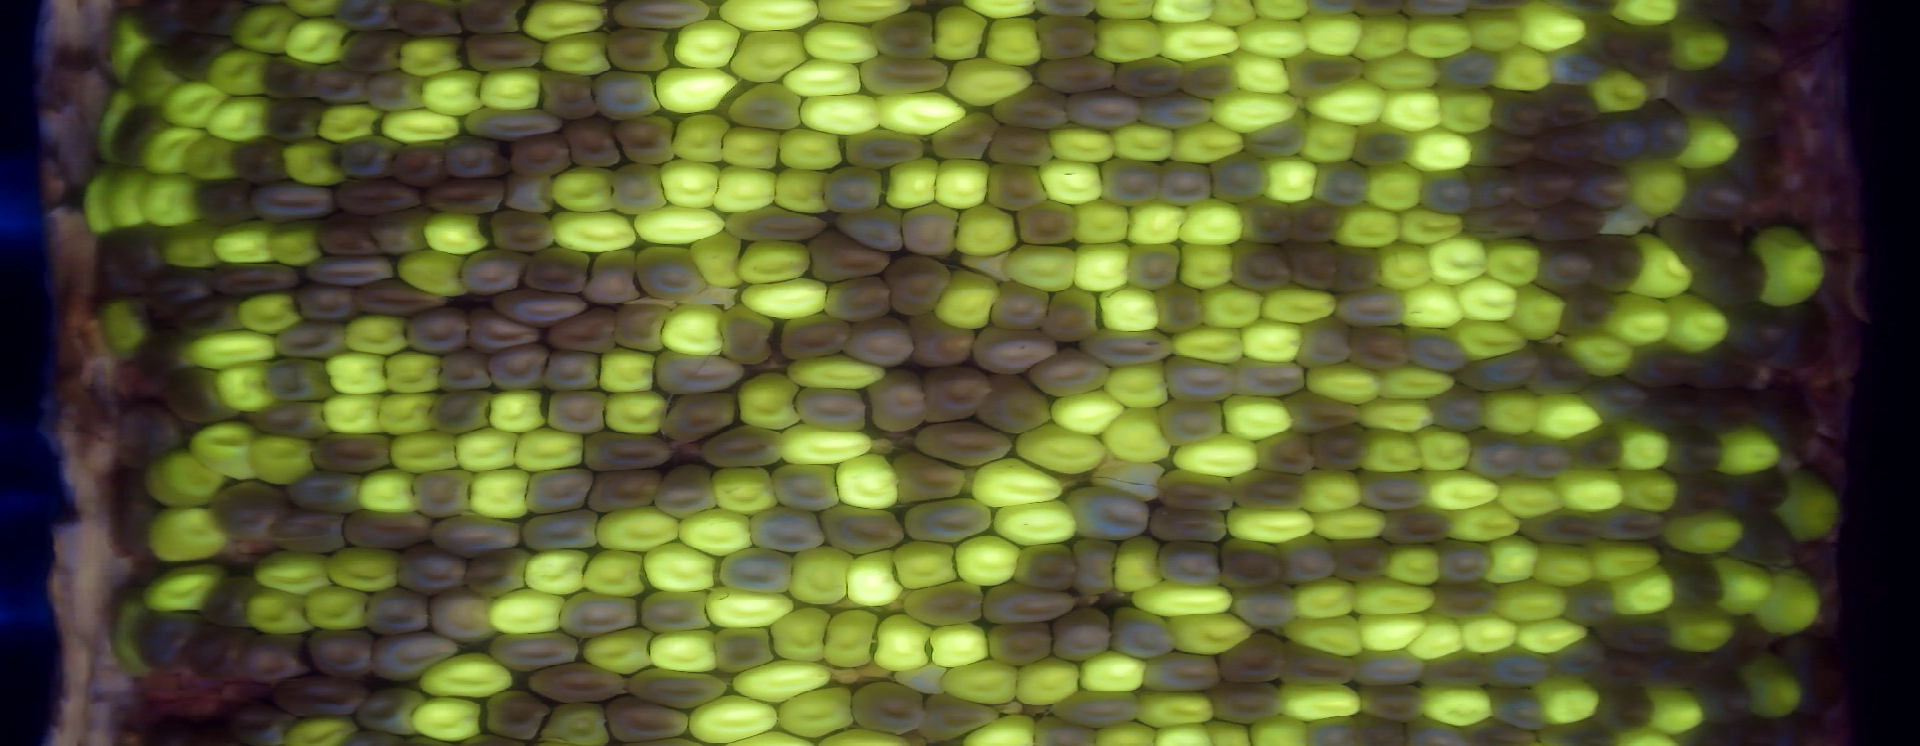fluorescent: (1751, 219, 1829, 312), (137, 445, 238, 514), (966, 453, 1069, 514), (1011, 418, 1112, 479), (144, 499, 233, 567), (1618, 229, 1700, 303), (1773, 467, 1849, 545), (1299, 72, 1400, 131), (681, 688, 782, 746), (771, 682, 863, 745), (871, 82, 973, 137), (181, 415, 260, 488), (1753, 563, 1826, 642), (727, 657, 840, 707), (415, 649, 520, 702), (1164, 608, 1260, 665), (774, 420, 879, 472), (591, 499, 687, 555), (1097, 403, 1178, 469), (1738, 649, 1809, 724), (1209, 85, 1307, 138), (140, 560, 229, 619), (653, 61, 746, 118), (627, 198, 733, 247), (1704, 419, 1788, 481), (1171, 428, 1265, 483), (1616, 154, 1690, 224), (1044, 385, 1131, 443), (103, 588, 153, 690), (700, 579, 797, 632), (727, 24, 807, 88), (945, 55, 1035, 111), (1442, 314, 1536, 367), (656, 298, 733, 363), (673, 503, 760, 561), (738, 272, 838, 322), (1275, 609, 1371, 660), (389, 244, 474, 303), (785, 348, 891, 394), (1662, 288, 1734, 356), (991, 495, 1082, 549), (576, 543, 656, 604), (578, 619, 659, 680), (730, 232, 816, 289), (636, 539, 721, 597), (131, 167, 207, 232), (950, 528, 1027, 592), (1340, 570, 1442, 617), (932, 265, 1000, 336), (864, 609, 937, 676), (1129, 578, 1239, 622), (784, 541, 857, 608), (1660, 12, 1734, 78), (549, 205, 643, 256), (834, 450, 909, 514), (242, 429, 320, 491), (1153, 16, 1247, 67), (733, 367, 804, 435), (836, 545, 907, 612), (1501, 281, 1573, 347), (1527, 670, 1607, 730), (1223, 501, 1322, 549), (1266, 677, 1365, 725), (667, 16, 744, 77), (793, 87, 885, 138), (400, 691, 492, 742), (1302, 356, 1387, 412), (178, 326, 282, 371), (250, 546, 339, 599), (318, 543, 405, 597), (1663, 506, 1750, 560), (1357, 47, 1450, 97), (1032, 152, 1113, 209), (485, 582, 571, 636), (951, 197, 1022, 262), (224, 1, 302, 60), (273, 131, 347, 194), (1087, 13, 1171, 69), (1356, 156, 1429, 218), (1095, 279, 1169, 341), (711, 1, 831, 39), (1215, 391, 1299, 445), (293, 582, 377, 636), (885, 535, 962, 594), (102, 5, 157, 87), (1000, 243, 1082, 298), (1660, 601, 1742, 657), (1708, 556, 1780, 619), (209, 356, 288, 414), (1010, 650, 1085, 710), (1101, 356, 1177, 415), (242, 581, 318, 639), (928, 1, 993, 70), (1108, 530, 1173, 599), (940, 655, 1025, 708), (1369, 356, 1464, 403), (1413, 680, 1504, 729), (1671, 111, 1742, 174), (309, 99, 391, 153), (1329, 197, 1407, 254), (1349, 423, 1428, 479), (1513, 1, 1588, 60), (516, 1, 612, 47), (201, 89, 277, 147), (665, 108, 733, 171), (140, 120, 209, 183), (1531, 390, 1611, 443), (122, 44, 182, 116), (1424, 232, 1496, 292), (384, 426, 467, 479), (506, 425, 591, 475), (418, 65, 492, 122), (1291, 110, 1365, 168), (644, 626, 727, 677), (1477, 232, 1547, 293), (1419, 464, 1509, 512), (1287, 463, 1368, 516), (800, 18, 884, 69), (1490, 472, 1572, 523), (1127, 686, 1220, 731), (86, 296, 151, 361), (769, 604, 835, 668), (278, 12, 353, 69), (1607, 562, 1681, 619), (391, 32, 470, 85), (1400, 11, 1479, 64), (201, 45, 278, 99), (534, 28, 615, 80), (1193, 279, 1273, 331), (517, 546, 598, 598), (1287, 572, 1364, 626), (1397, 125, 1478, 176), (1600, 292, 1678, 345), (1224, 42, 1298, 98), (533, 697, 617, 746), (687, 228, 749, 294), (416, 206, 495, 258), (817, 608, 878, 675), (1491, 573, 1573, 624), (1120, 195, 1195, 250), (1450, 273, 1524, 328), (464, 464, 533, 524), (1172, 236, 1242, 295), (1476, 530, 1545, 589), (1393, 281, 1469, 334), (709, 158, 780, 216), (1174, 195, 1251, 247), (1559, 330, 1640, 380), (546, 160, 620, 216), (1637, 682, 1711, 737), (1509, 612, 1596, 659), (1349, 608, 1431, 657), (156, 217, 227, 273), (1456, 6, 1532, 59), (931, 152, 996, 213), (1067, 195, 1140, 249), (1375, 83, 1449, 137), (1442, 499, 1529, 544), (1169, 118, 1248, 168), (157, 78, 231, 131), (204, 216, 279, 268), (1584, 539, 1669, 586), (1167, 321, 1249, 369), (1483, 40, 1554, 96), (473, 64, 549, 115), (707, 463, 782, 514), (1400, 610, 1476, 661), (1551, 465, 1631, 514), (983, 13, 1048, 73), (378, 107, 467, 151), (91, 85, 137, 168), (771, 124, 849, 174), (1043, 119, 1120, 169), (321, 347, 394, 399), (449, 424, 523, 477), (261, 216, 329, 272), (594, 344, 662, 401), (1609, 418, 1678, 474), (1231, 15, 1311, 62), (354, 465, 424, 521), (1106, 119, 1184, 168), (1256, 282, 1341, 327), (1236, 314, 1307, 367), (1071, 235, 1134, 296), (1349, 394, 1441, 436), (1607, 465, 1682, 516), (231, 287, 309, 336), (1474, 383, 1543, 439), (776, 55, 867, 97), (1297, 9, 1367, 62), (770, 162, 834, 220), (1434, 80, 1499, 137), (1351, 9, 1417, 65), (1373, 236, 1440, 292), (336, 314, 415, 360), (600, 386, 670, 439), (1378, 538, 1447, 590), (1075, 646, 1150, 695), (658, 154, 722, 211), (1451, 610, 1529, 657), (484, 385, 551, 439), (181, 127, 240, 189), (1528, 541, 1602, 590), (373, 387, 443, 439), (1411, 423, 1480, 474), (1258, 152, 1322, 207), (885, 152, 940, 217), (1391, 203, 1466, 251), (99, 160, 148, 233), (317, 390, 389, 437), (1581, 67, 1653, 115), (956, 708, 1047, 746), (1309, 503, 1396, 543), (718, 122, 782, 174), (931, 619, 996, 670), (381, 347, 444, 397), (1600, 1, 1687, 34), (277, 712, 360, 746), (811, 1, 915, 28), (80, 169, 118, 241), (1243, 710, 1318, 746), (958, 1, 1046, 26), (1204, 1, 1262, 33), (1151, 718, 1217, 746), (1091, 1, 1162, 24)
nonfluorescent: (970, 369, 1059, 440), (109, 398, 189, 478), (803, 225, 899, 292), (966, 321, 1068, 382), (204, 475, 294, 544), (913, 363, 1003, 430), (1062, 480, 1160, 541), (130, 605, 212, 677), (365, 624, 462, 685), (631, 240, 718, 307), (1653, 538, 1731, 612), (878, 247, 958, 321), (816, 500, 913, 559), (899, 491, 1000, 548), (348, 271, 456, 323), (910, 416, 1018, 469), (1660, 212, 1751, 274), (180, 619, 260, 690), (845, 675, 934, 737), (485, 281, 599, 330), (648, 344, 748, 399), (1020, 344, 1116, 402), (1709, 20, 1789, 88), (599, 691, 697, 746), (651, 390, 743, 448), (1764, 298, 1837, 372), (482, 622, 584, 675), (976, 579, 1082, 630), (326, 173, 433, 222), (622, 664, 732, 712), (1453, 342, 1549, 397), (1281, 47, 1370, 105), (1689, 251, 1774, 312), (901, 309, 982, 374), (269, 668, 373, 718), (790, 381, 880, 439), (1723, 73, 1798, 143), (923, 107, 1007, 169), (895, 577, 989, 632), (1158, 349, 1247, 408), (100, 472, 157, 563), (527, 655, 629, 706), (233, 628, 313, 692), (816, 272, 905, 330), (1753, 379, 1826, 450), (1276, 637, 1363, 696), (721, 76, 808, 135), (986, 78, 1076, 135), (857, 47, 956, 98), (429, 506, 525, 559), (720, 201, 831, 246), (1215, 532, 1296, 594), (1731, 507, 1802, 578), (476, 686, 560, 746), (1774, 632, 1834, 715), (770, 457, 849, 521), (692, 420, 789, 472), (888, 450, 972, 508), (576, 428, 676, 477), (1676, 160, 1753, 224), (917, 688, 1002, 746), (576, 245, 649, 311), (1078, 323, 1177, 372), (1152, 462, 1240, 517), (746, 501, 834, 556), (246, 174, 340, 225), (204, 255, 309, 301), (520, 240, 598, 303), (1103, 603, 1180, 665), (462, 100, 571, 145), (340, 505, 441, 552), (1151, 393, 1234, 451), (553, 589, 647, 641), (1521, 339, 1600, 399), (391, 539, 475, 595), (157, 29, 239, 87), (864, 7, 943, 67), (1049, 601, 1118, 670), (81, 232, 151, 299), (345, 681, 429, 737), (634, 584, 718, 641), (103, 100, 168, 173), (460, 301, 545, 356), (162, 366, 238, 428), (1217, 630, 1294, 690), (1234, 108, 1316, 164), (140, 266, 222, 322), (601, 157, 673, 220), (649, 461, 721, 524), (456, 245, 539, 300), (771, 310, 855, 365), (716, 543, 800, 598), (267, 503, 350, 559), (589, 67, 669, 125), (429, 586, 503, 647), (301, 624, 377, 684), (538, 303, 618, 359), (1662, 66, 1742, 122), (306, 426, 397, 477), (607, 292, 675, 359), (187, 173, 264, 232), (835, 201, 912, 260), (580, 465, 669, 517), (520, 463, 598, 522), (1724, 137, 1793, 203), (1581, 232, 1651, 296), (984, 276, 1056, 339), (1460, 423, 1531, 486), (895, 200, 967, 262), (482, 336, 556, 397), (841, 315, 921, 371), (1226, 463, 1313, 514), (282, 465, 369, 517), (1224, 238, 1300, 296), (841, 125, 932, 174), (458, 27, 549, 76), (1138, 648, 1228, 697), (1051, 685, 1149, 730), (249, 394, 337, 445), (555, 113, 627, 174), (982, 156, 1056, 216), (538, 383, 613, 441), (1224, 354, 1311, 404), (519, 503, 606, 554), (122, 331, 192, 393), (1226, 581, 1307, 635), (1527, 196, 1611, 247), (224, 131, 298, 190), (332, 127, 407, 185), (715, 303, 779, 370), (1089, 457, 1172, 508), (1580, 370, 1656, 426), (1722, 463, 1798, 519), (1032, 51, 1127, 97), (609, 109, 680, 169), (1145, 500, 1232, 549), (214, 696, 299, 746), (1460, 197, 1544, 247), (503, 127, 582, 181), (980, 619, 1058, 673), (1567, 160, 1646, 214), (1276, 390, 1369, 435), (1589, 609, 1678, 657), (1431, 535, 1506, 592), (1521, 503, 1607, 552), (1633, 96, 1693, 165), (421, 383, 497, 439), (365, 200, 436, 258), (1720, 301, 1791, 360), (1346, 644, 1435, 691), (459, 543, 531, 600), (710, 624, 782, 681), (1529, 238, 1602, 295), (333, 24, 410, 78), (298, 249, 400, 289), (1760, 1, 1847, 49), (1062, 86, 1146, 135), (600, 23, 675, 78), (1095, 156, 1169, 211), (419, 173, 509, 218), (1111, 54, 1190, 105), (1464, 126, 1550, 174), (1153, 538, 1229, 592), (1682, 670, 1758, 724), (1209, 677, 1286, 730), (1627, 337, 1704, 390), (1332, 284, 1413, 334), (104, 220, 178, 276), (400, 303, 474, 358), (1131, 87, 1218, 134), (1291, 314, 1359, 372), (408, 464, 478, 522), (1510, 154, 1581, 211), (261, 352, 337, 404), (819, 163, 891, 218), (1689, 339, 1761, 394), (1660, 469, 1733, 524), (1354, 467, 1438, 514), (1149, 277, 1213, 338), (200, 572, 264, 633), (1618, 20, 1682, 81), (1276, 532, 1342, 592), (986, 118, 1060, 170), (1342, 321, 1417, 374), (1416, 647, 1498, 695), (361, 584, 432, 639), (1326, 532, 1397, 587), (602, 1, 716, 36), (1029, 12, 1104, 64), (1040, 285, 1104, 345), (1280, 194, 1352, 247), (1378, 502, 1463, 548), (1687, 383, 1761, 436), (1656, 425, 1729, 478), (1153, 157, 1223, 212), (1402, 320, 1472, 375), (440, 130, 514, 181), (535, 66, 601, 124), (257, 50, 324, 107), (1554, 284, 1621, 341), (285, 281, 362, 330), (1632, 385, 1716, 430), (1638, 644, 1722, 690), (1536, 78, 1605, 132), (538, 344, 612, 394), (1483, 686, 1558, 736), (1584, 643, 1659, 693), (1592, 109, 1652, 171), (273, 315, 351, 363), (1713, 610, 1784, 663), (1206, 149, 1273, 205), (1352, 119, 1420, 173), (311, 209, 384, 260), (384, 136, 452, 190), (1483, 85, 1550, 138), (1174, 50, 1247, 100), (1482, 643, 1558, 691), (260, 91, 323, 147), (1236, 194, 1299, 250), (1419, 579, 1502, 622), (1547, 633, 1618, 684), (1014, 195, 1081, 247), (1327, 241, 1395, 294), (359, 69, 431, 118), (1537, 122, 1609, 171), (1576, 10, 1638, 66), (1305, 421, 1375, 472), (309, 58, 373, 111), (1434, 45, 1505, 94), (431, 344, 500, 394), (1594, 502, 1670, 548), (1427, 383, 1491, 436), (451, 1, 535, 42), (387, 1, 467, 44), (1356, 681, 1433, 725), (1309, 160, 1376, 211), (487, 207, 560, 254), (167, 292, 245, 334), (1249, 430, 1318, 479), (1288, 239, 1344, 296), (1540, 40, 1607, 89), (1516, 430, 1580, 480), (127, 1, 192, 50), (1123, 239, 1183, 292), (1558, 578, 1622, 626), (324, 1, 404, 39), (498, 170, 560, 219), (1533, 713, 1624, 746), (179, 1, 252, 42), (1418, 169, 1477, 219), (1675, 1, 1778, 29), (1460, 164, 1523, 209), (1026, 710, 1104, 746), (1397, 710, 1476, 746), (1569, 425, 1629, 469), (1462, 713, 1540, 746), (1343, 710, 1416, 746), (1302, 710, 1360, 746)
